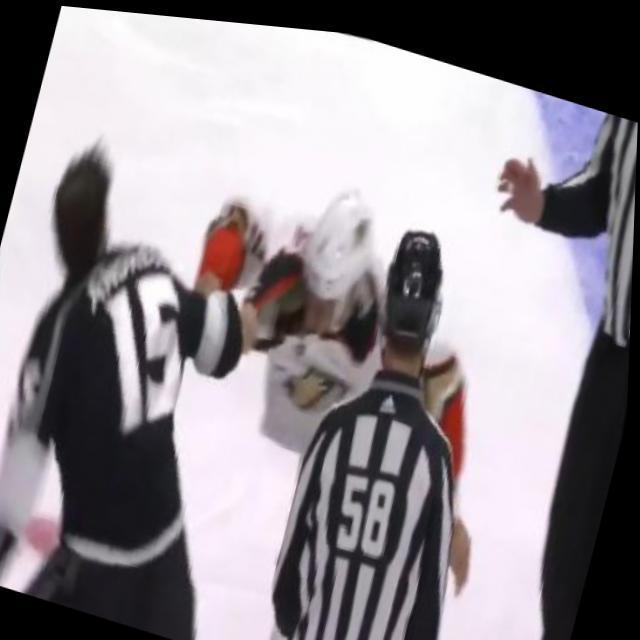fight: (0, 87, 435, 640)
